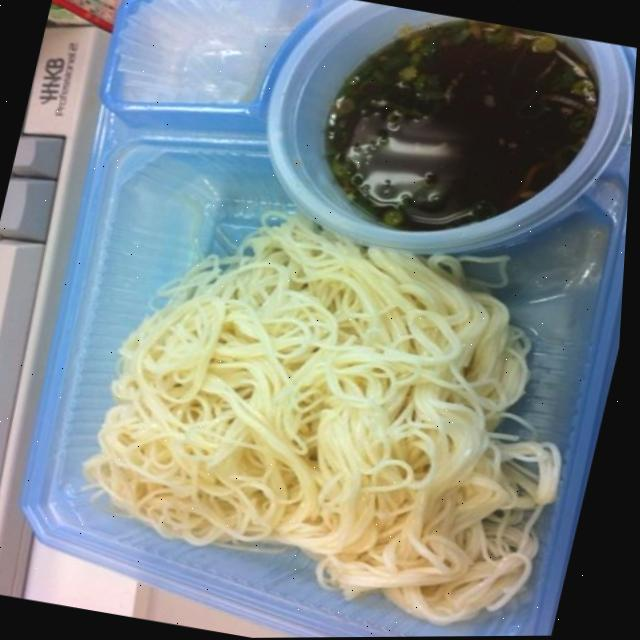面条主食: (32, 191, 623, 640)
